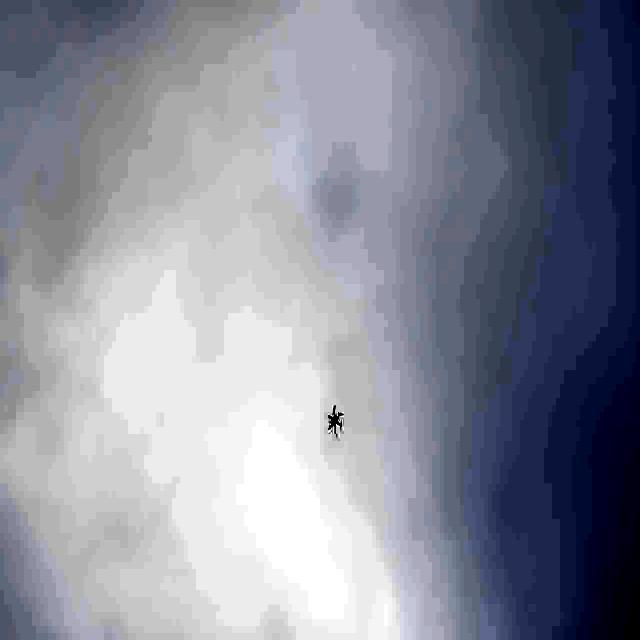drone: (327, 402, 345, 436)
